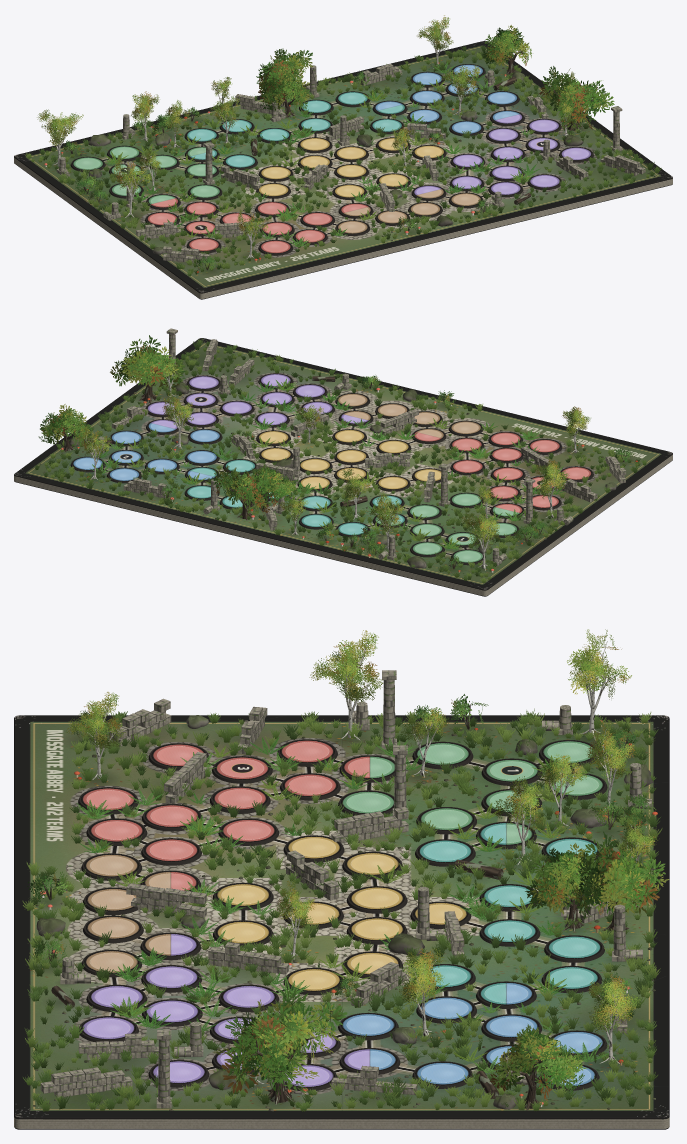
Rendered from moss.glb.
3 renders of one model, top to bottom at view 1: azimuth 30°, elevation 25°; view 2: azimuth 150°, elevation 25°; view 3: azimuth 270°, elevation 25°, orthographic. The views are drawn at different scales.
Visible parts, largest first — view 1: board (×2), scenery (×18); view 2: board (×2), scenery (×19); view 3: board (×54), scenery (×32).
Part boxes in pixels (<box>): board (×2): <box>14,40,672,299</box>; scenery (×18): <box>25,15,661,276</box>; board (×2): <box>14,338,672,596</box>; scenery (×19): <box>35,335,646,582</box>; board (×54): <box>14,715,669,1129</box>; scenery (×32): <box>22,629,669,1111</box>.
Size of the model in its own units: 12.76 by 1.69 by 8.64.
Materials: 27 (24 with a texture image).
